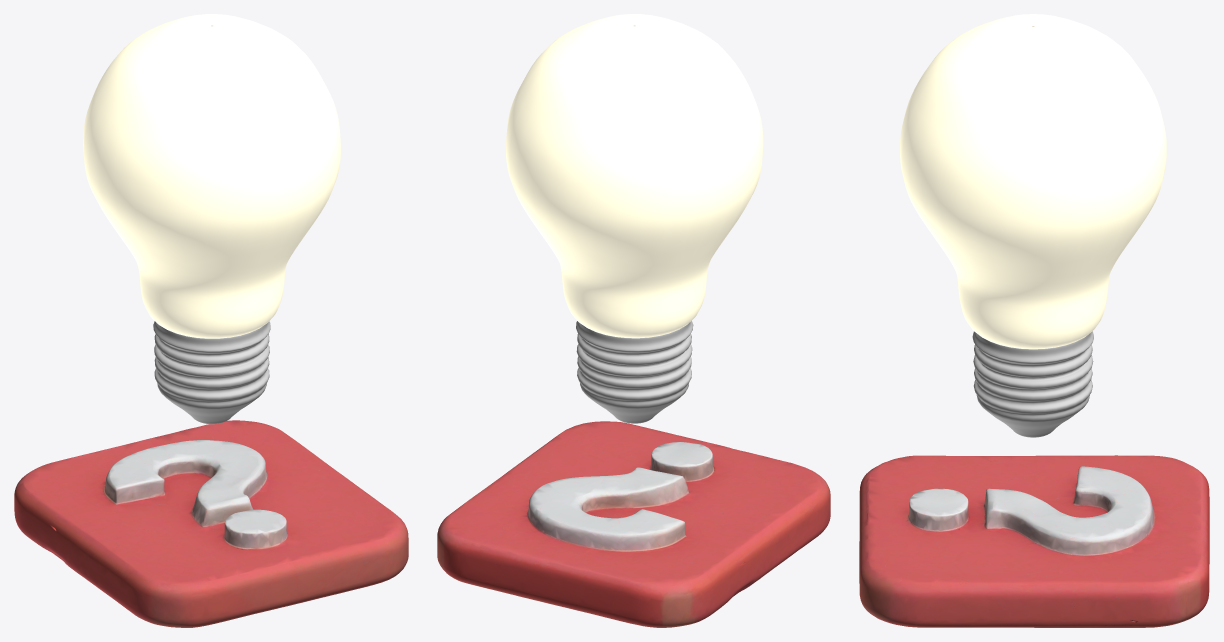
Rendered from bulb.glb.
The picture shows the model from 3 angles, left to right: view 1: azimuth 30°, elevation 25°; view 2: azimuth 150°, elevation 25°; view 3: azimuth 270°, elevation 25°; orthographic projection. The views are drawn at different scales.
Parts seen in each view (by area): view 1: mesh_0 (×2), mesh_0_1; view 2: mesh_0 (×2), mesh_0_1; view 3: mesh_0 (×2), mesh_0_1.
Part boxes in pixels (box(x1,y1,x2,y2)): mesh_0 (×2): box(14, 14, 408, 627); mesh_0_1: box(153, 321, 270, 424); mesh_0 (×2): box(437, 14, 830, 627); mesh_0_1: box(576, 321, 693, 423); mesh_0 (×2): box(859, 14, 1209, 627); mesh_0_1: box(972, 331, 1093, 437).
Bounding box in the file's own units: 1.82 × 3.39 × 2.
Materials: 5 (1 with a texture image).
